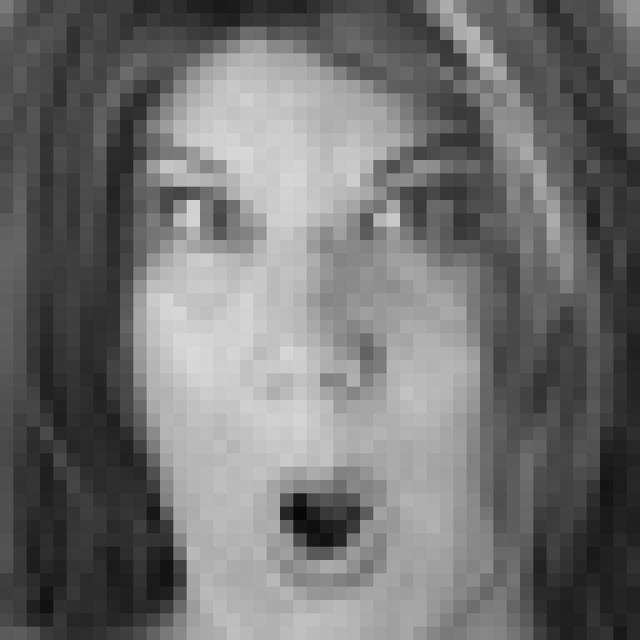surprise: (111, 132, 514, 592)
